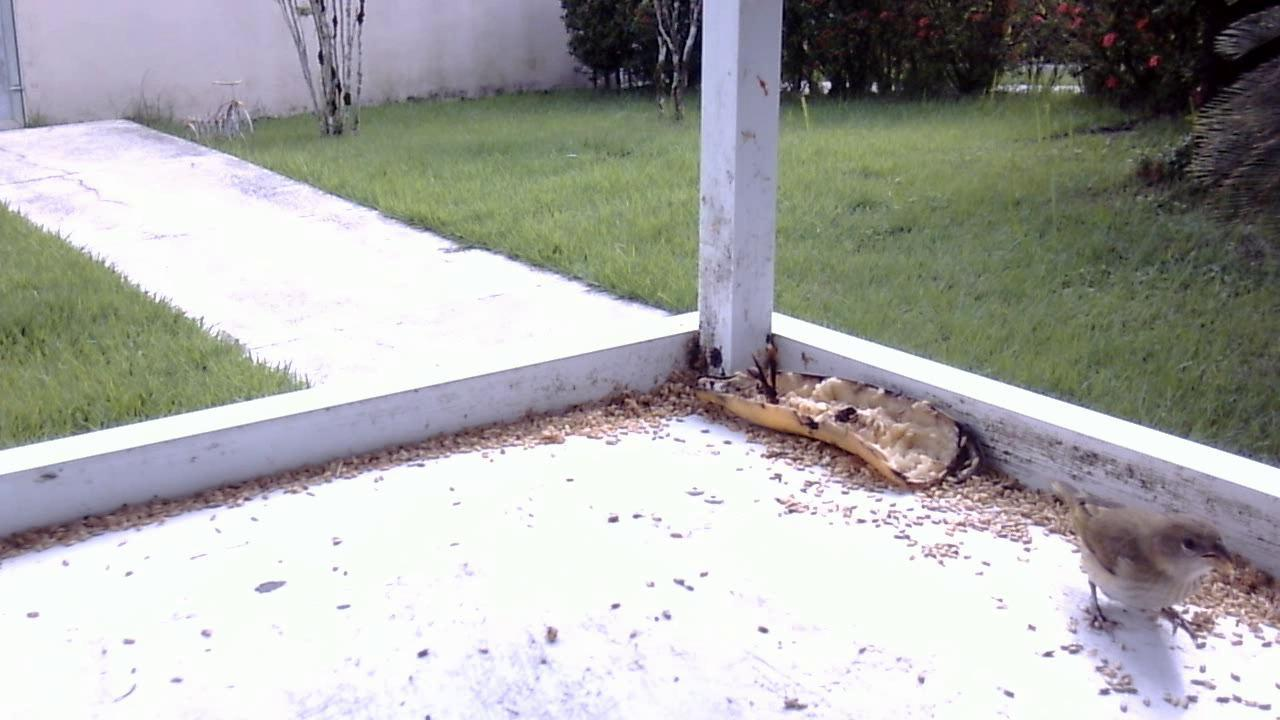canario_do_amazonas: (1034, 475, 1242, 649)
